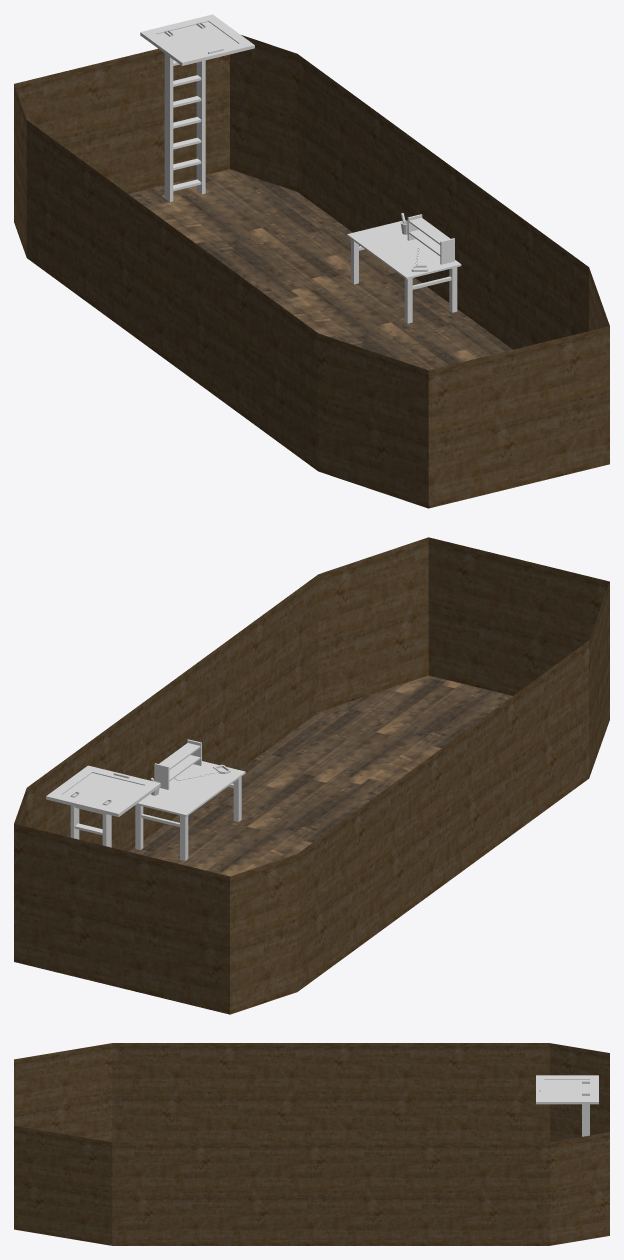
Rendered from Pod pokładem.fbx.
3 renders of one model, top to bottom at view 1: azimuth 30°, elevation 25°; view 2: azimuth 150°, elevation 25°; view 3: azimuth 270°, elevation 25°, orthographic. The views are drawn at different scales.
Parts seen in each view (by area): view 1: Pomieszczenie, Drabina, Klapa.001, Stół_Blat, Stół_Nogi, Stół_Półka; view 2: Pomieszczenie, Klapa.001, Stół_Blat, Stół_Nogi, Stół_Półka, Drabina; view 3: Pomieszczenie, Klapa.001, Drabina.
Boxes of the visible parts, left/top/right/bottom form: Pomieszczenie: left=14, top=35, right=609, bottom=508; Drabina: left=164, top=22, right=205, bottom=201; Klapa.001: left=140, top=14, right=254, bottom=65; Stół_Blat: left=347, top=221, right=461, bottom=279; Stół_Nogi: left=351, top=239, right=457, bottom=323; Stół_Półka: left=407, top=214, right=454, bottom=264; Pomieszczenie: left=14, top=537, right=609, bottom=1014; Klapa.001: left=46, top=765, right=160, bottom=816; Stół_Blat: left=136, top=761, right=245, bottom=816; Stół_Nogi: left=135, top=776, right=241, bottom=860; Stół_Półka: left=154, top=739, right=201, bottom=789; Drabina: left=70, top=792, right=111, bottom=847; Pomieszczenie: left=14, top=1043, right=609, bottom=1245; Klapa.001: left=536, top=1075, right=598, bottom=1104; Drabina: left=582, top=1081, right=589, bottom=1136.
Bounding box in the file's own units: 410 × 243 × 1042.
